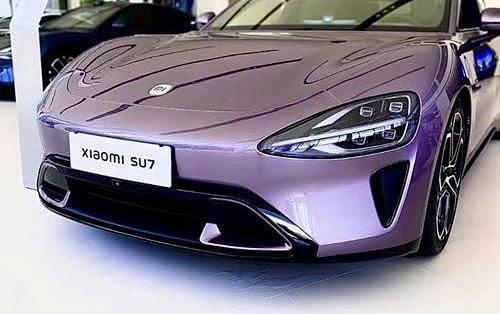su7: (38, 0, 500, 264)
